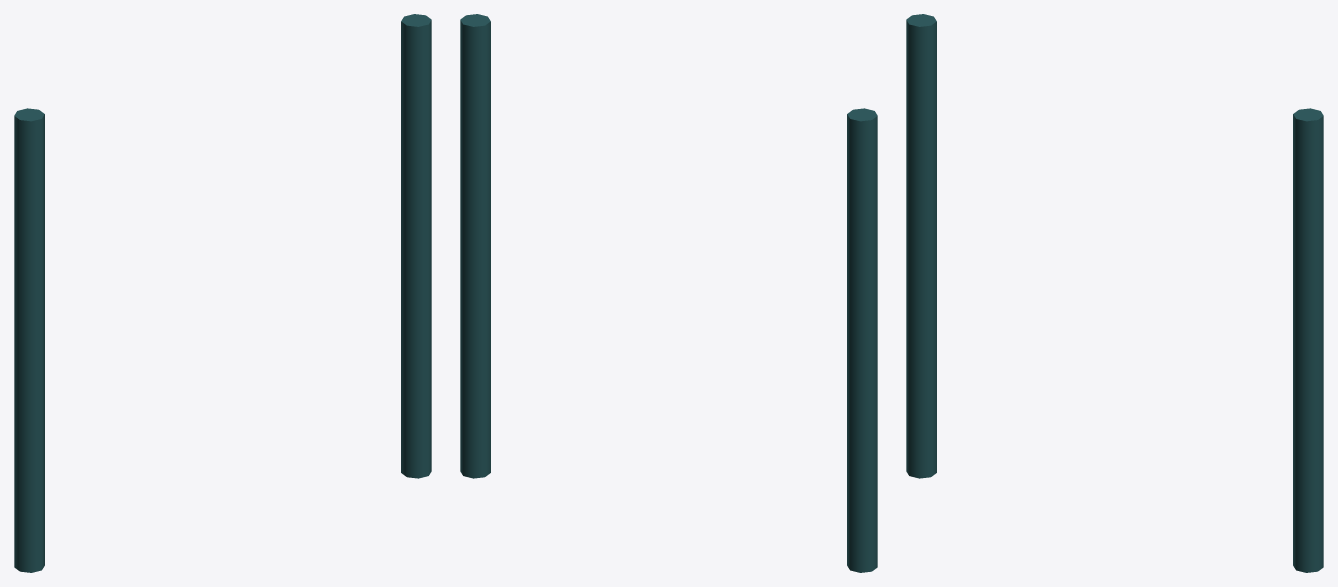
File: SignPostsMIA.fbx
3 views of the same model, side by side, from view 1: azimuth 30°, elevation 25°; view 2: azimuth 150°, elevation 25°; view 3: azimuth 330°, elevation 25° (orthographic).
Parts seen in each view (by area): view 1: SignPostsMIA; view 2: SignPostsMIA; view 3: SignPostsMIA.
Part boxes in pixels (x1,y1,x2,y2): SignPostsMIA: [14, 14, 431, 572]; SignPostsMIA: [460, 14, 877, 572]; SignPostsMIA: [906, 14, 1323, 572].
Bounding box in the file's own units: 1.38 × 1.45 × 0.0831.
